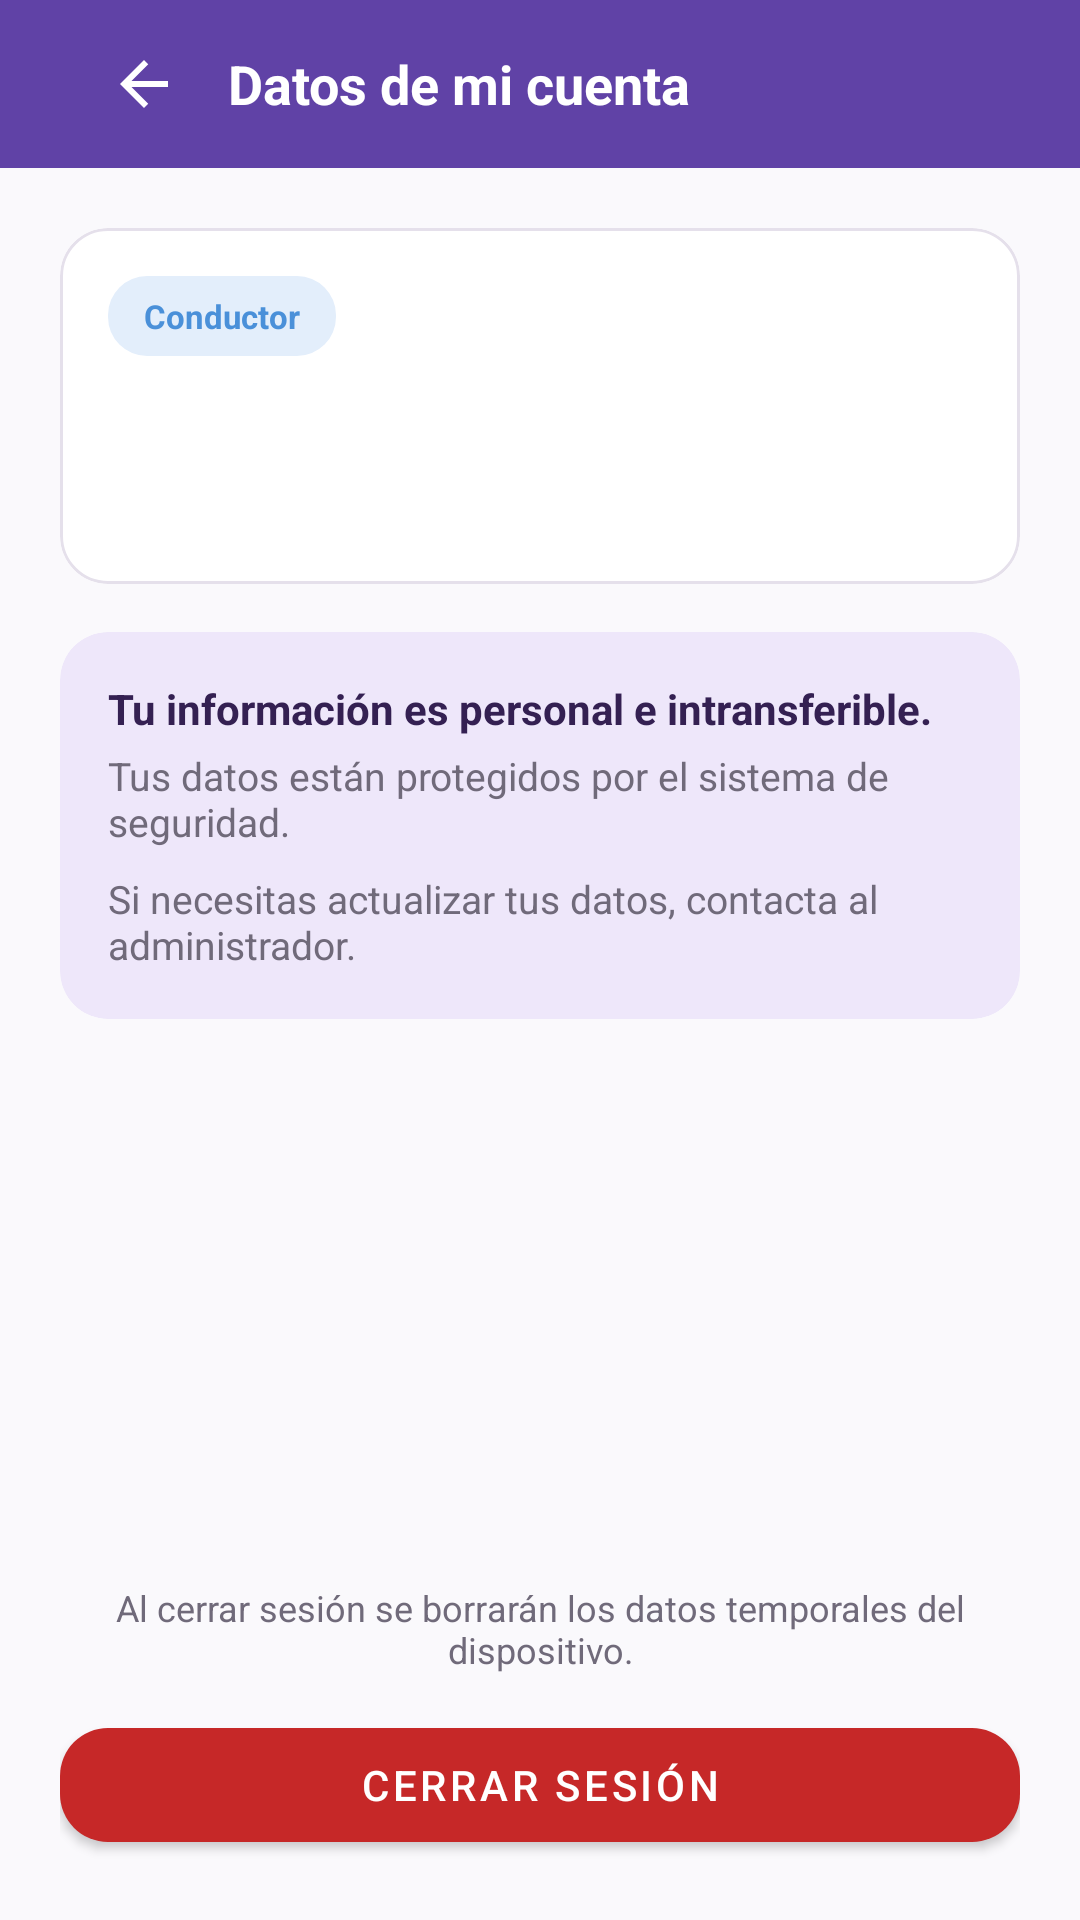

Named icons in this screenshot (1080 × 1920) and their bounding boxes, (x1, y1, x2, y2):
Volver: (120, 60, 168, 108)
